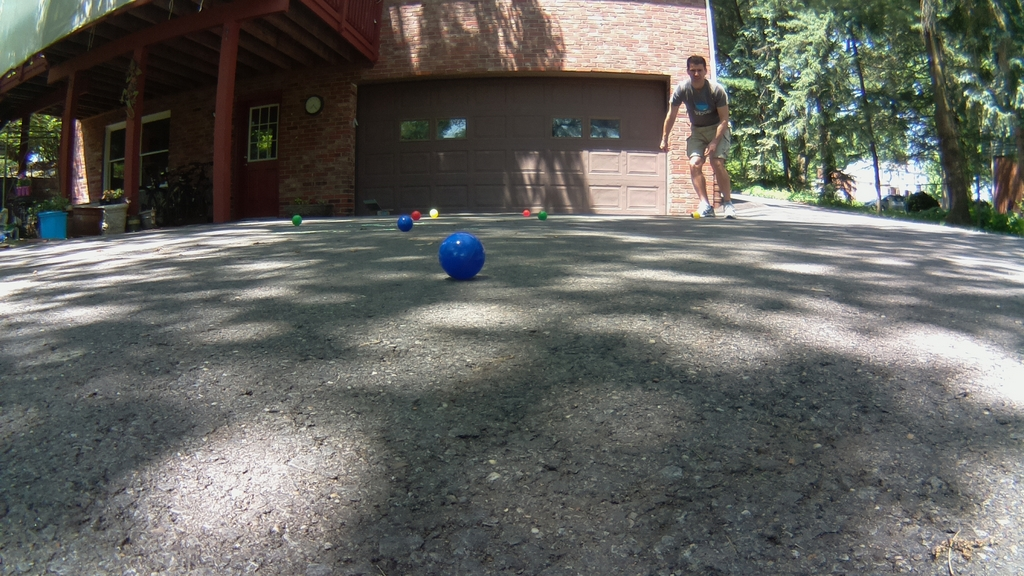ball: (412, 211, 420, 221)
